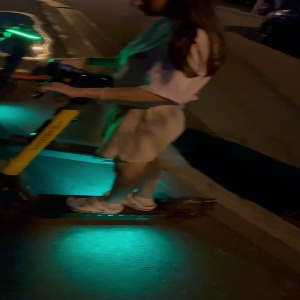human on a scooter: (1, 1, 224, 224)
